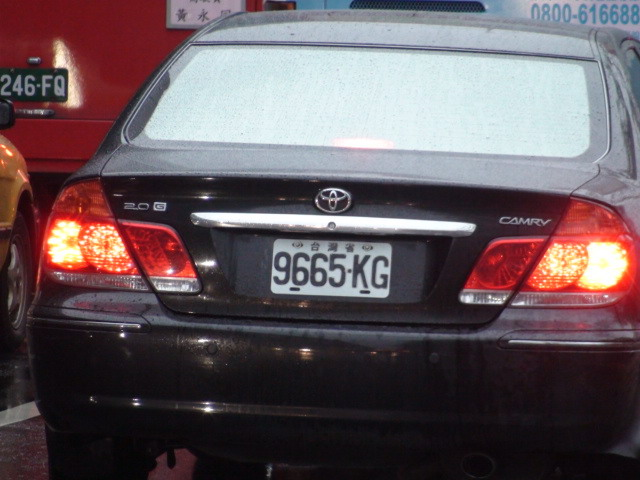plate: (268, 233, 393, 301), (0, 65, 71, 103)
